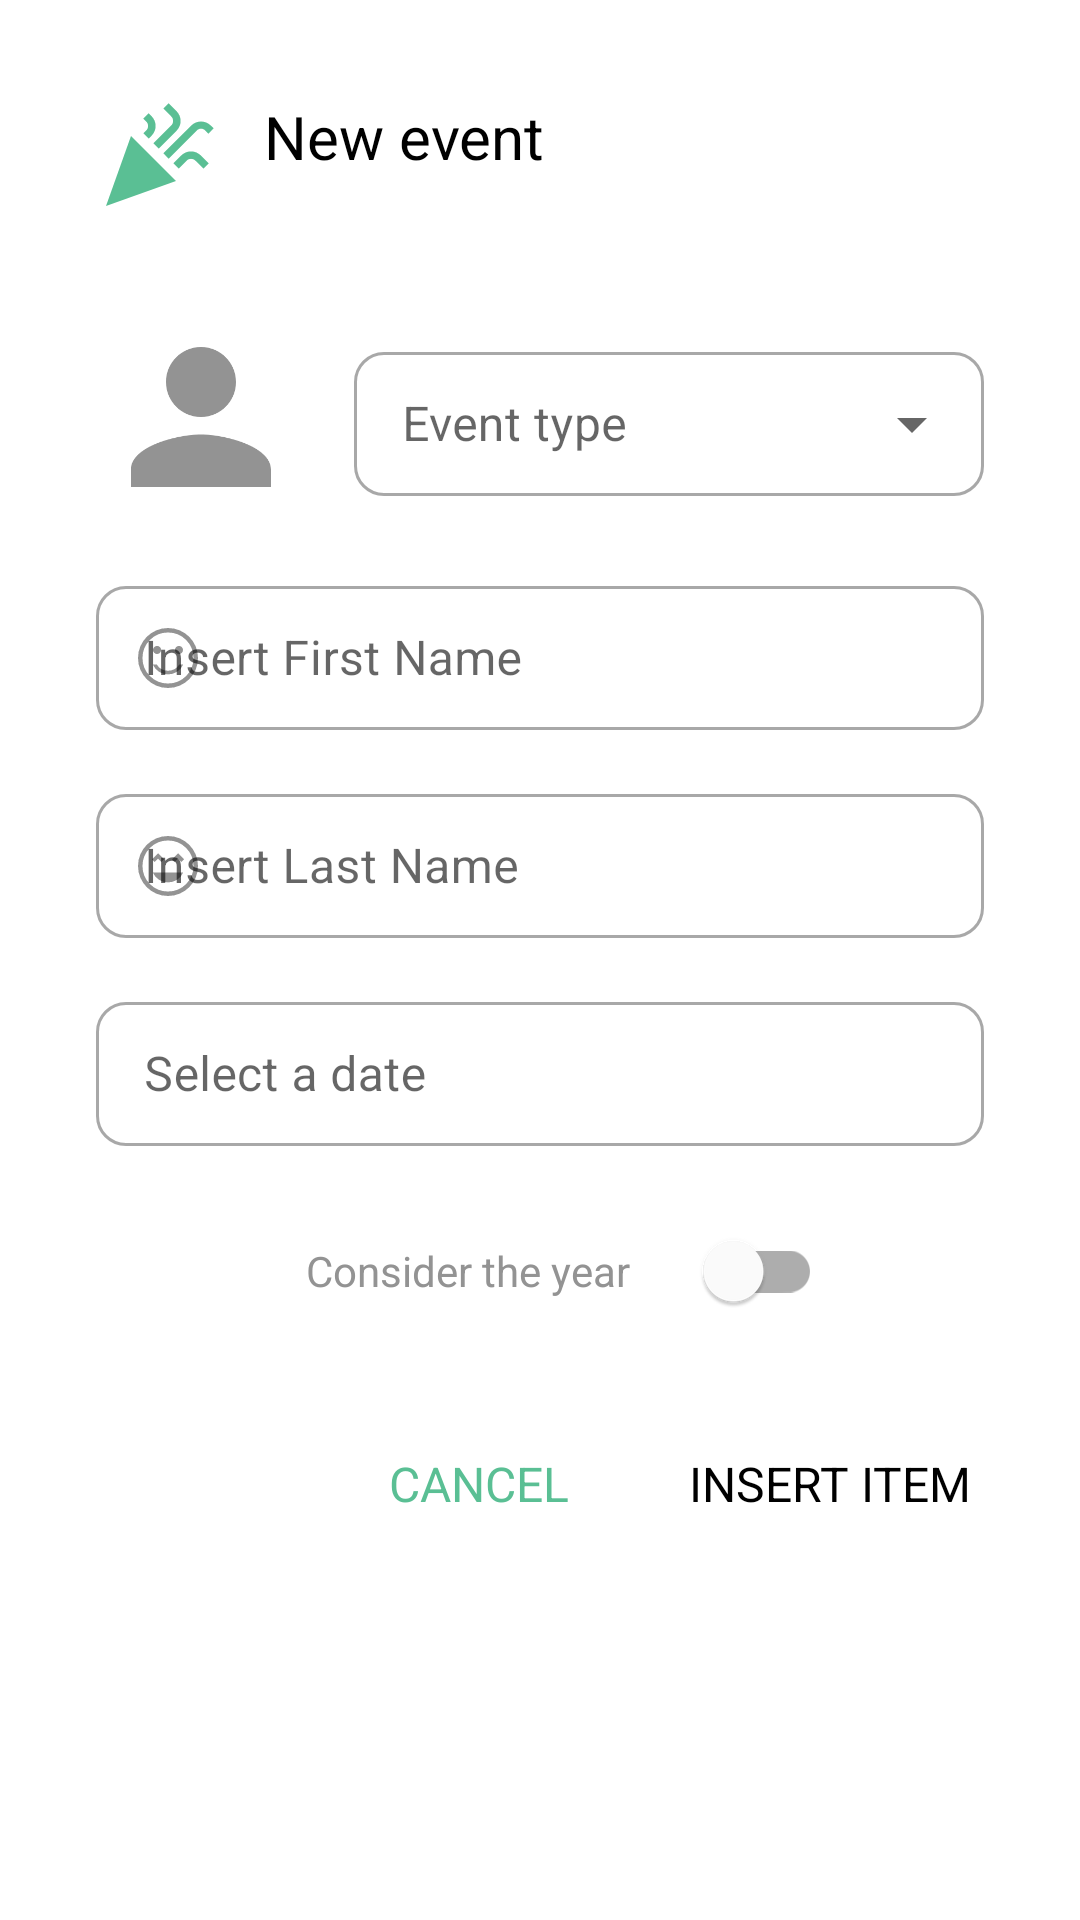

Screen size 1080 × 1920. Icon name, then its box in pixels as (x1, y1, x2, y2):
celebration: (106, 103, 214, 206)
person: (131, 347, 271, 487)
